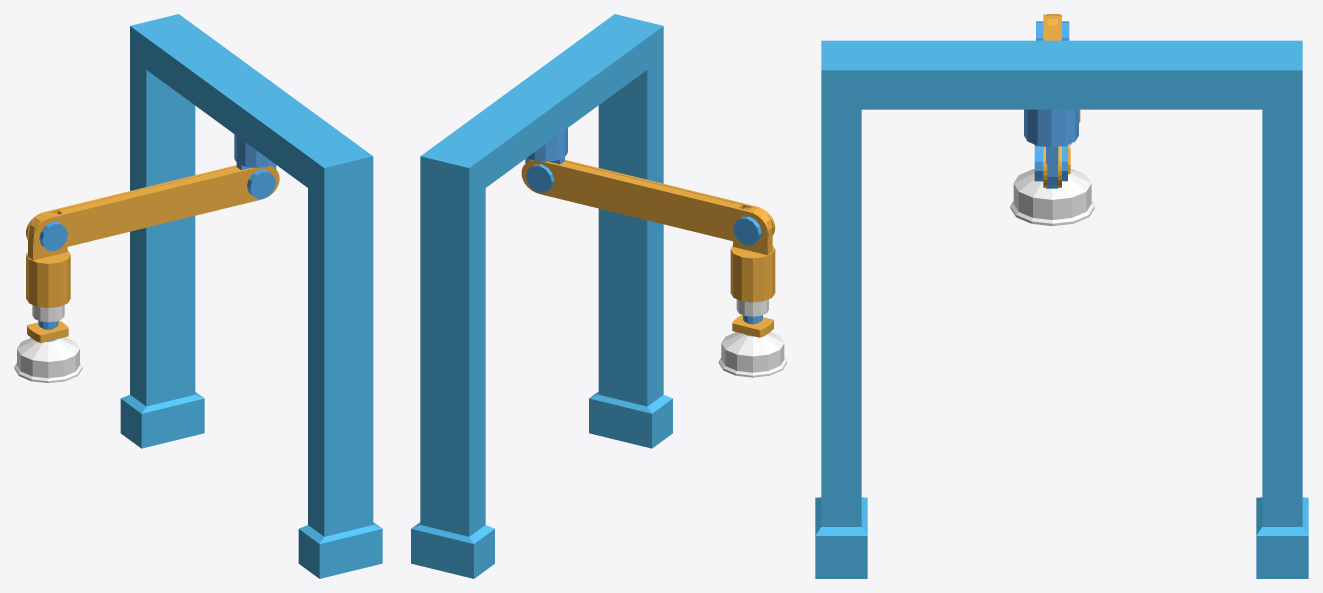
File: factory-arm.fbx
3 views of the same model, side by side, from view 1: azimuth 30°, elevation 25°; view 2: azimuth 150°, elevation 25°; view 3: azimuth 270°, elevation 25° (orthographic). The views are drawn at different scales.
Visible parts, largest first — view 1: Cube.060, Cube.063, Cylinder.002, Cylinder, Cylinder.001, Cylinder.003, Cube.062; view 2: Cube.060, Cube.063, Cylinder.002, Cylinder, Cylinder.003, Cylinder.001, Cube.062; view 3: Cube.060, Cylinder.002, Cylinder, Cube.063.
Part boxes in pixels (x1,y1,x2,y2): Cube.060: (120, 14, 382, 578); Cube.063: (26, 165, 279, 251); Cylinder.002: (14, 212, 82, 383); Cylinder: (234, 134, 276, 170); Cylinder.001: (247, 169, 275, 198); Cylinder.003: (39, 222, 67, 250); Cube.062: (27, 320, 68, 342); Cube.060: (411, 14, 672, 578); Cube.063: (521, 159, 775, 245); Cylinder.002: (718, 207, 786, 377); Cylinder: (525, 128, 567, 164); Cylinder.003: (733, 216, 761, 245); Cylinder.001: (526, 164, 554, 192); Cube.062: (732, 315, 773, 337); Cube.060: (815, 40, 1308, 578); Cylinder.002: (1010, 14, 1094, 226); Cylinder: (1024, 109, 1078, 188); Cube.063: (1043, 14, 1061, 187).
Size of the model in its own units: 678 by 984 by 872.
